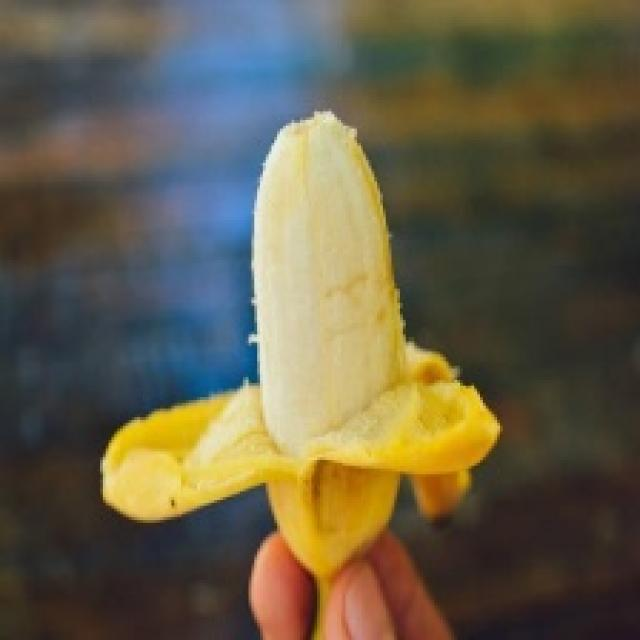Banana: (97, 106, 500, 637)
